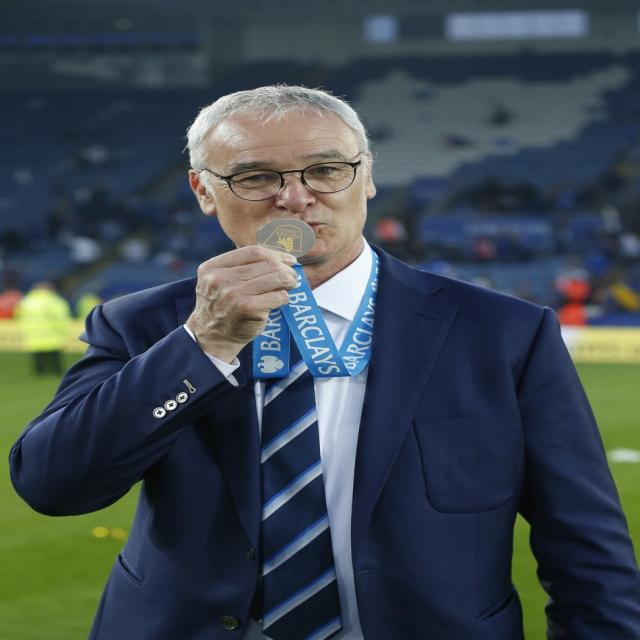nomask: (212, 125, 362, 265)
